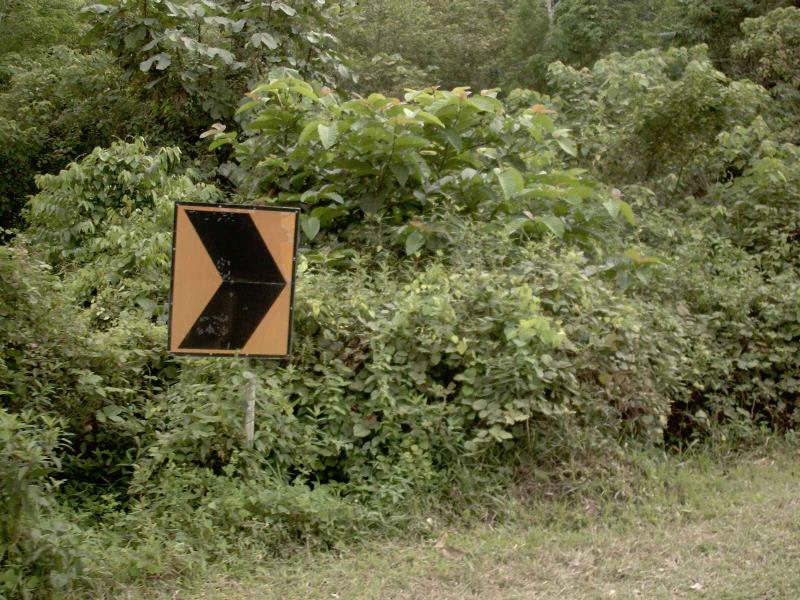traffic_sign: (154, 187, 310, 370)
